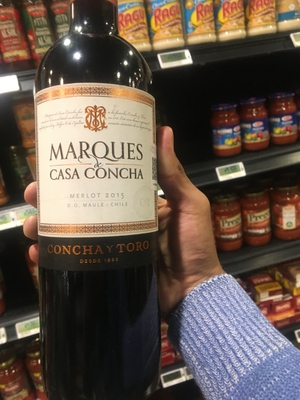marques de casa concha merlot: (19, 16, 174, 375)
